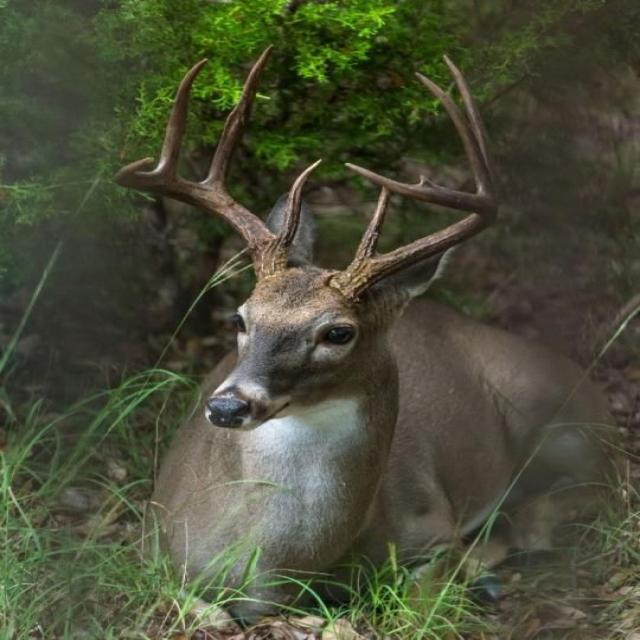L-E1: (414, 173, 437, 186)
L-F: (335, 162, 498, 303)
L-G1: (349, 186, 391, 266)
L-G2: (441, 53, 500, 208)
L-G3: (414, 70, 496, 203)
R-F: (112, 156, 288, 283)
R-G1: (276, 158, 323, 253)
R-G2: (198, 44, 275, 194)
R-G3: (152, 58, 209, 178)
